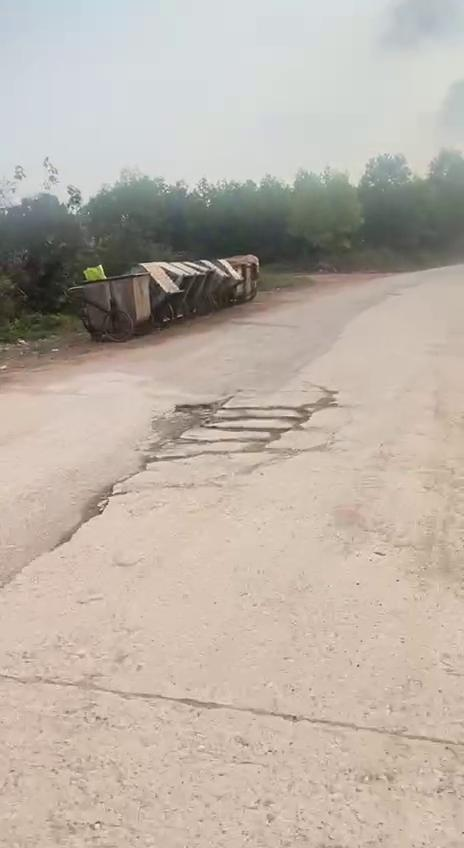pothole: (142, 383, 344, 468)
